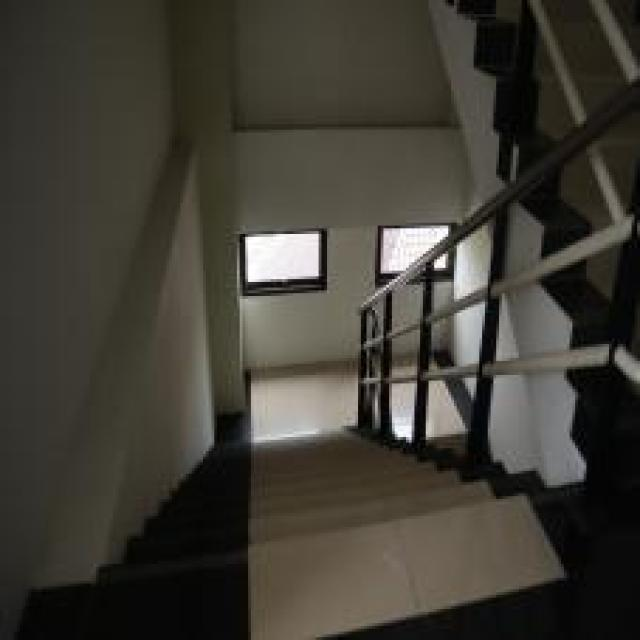downstair: (187, 449, 554, 638)
